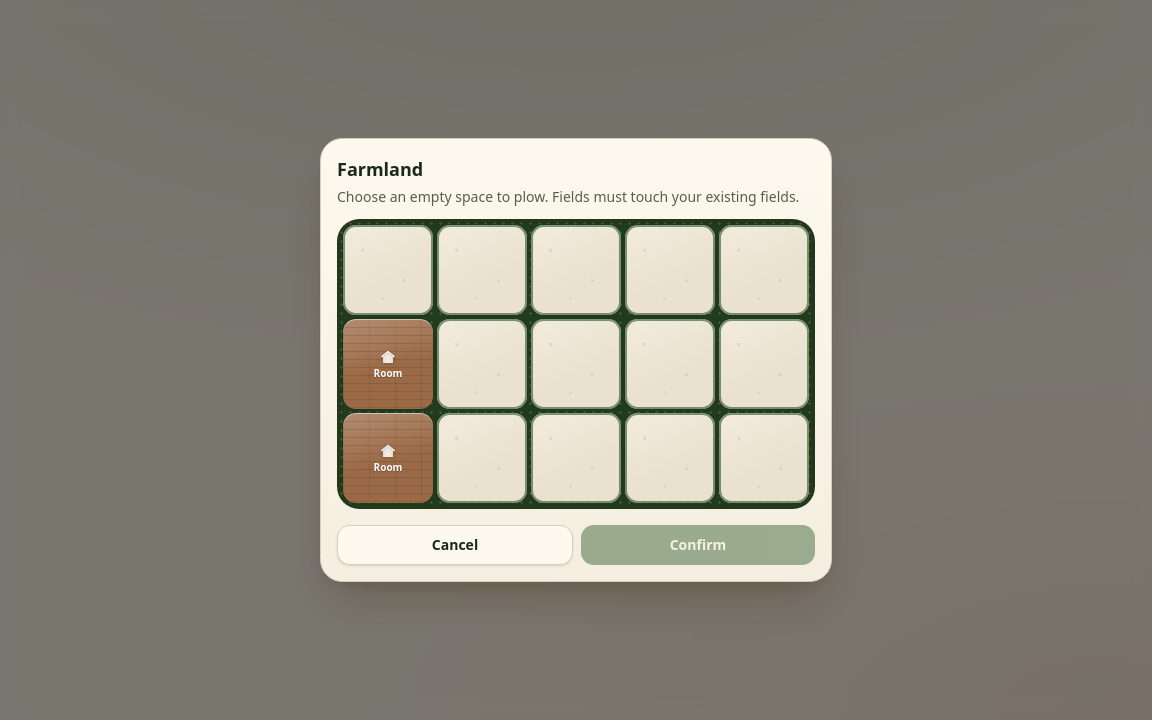
it: plowing › deselects a space when it is tapped again
The width and height of the screenshot is (1152, 720).
Step 1. Click the button named "Space 1:" → (388, 270), box [343,225,433,315]
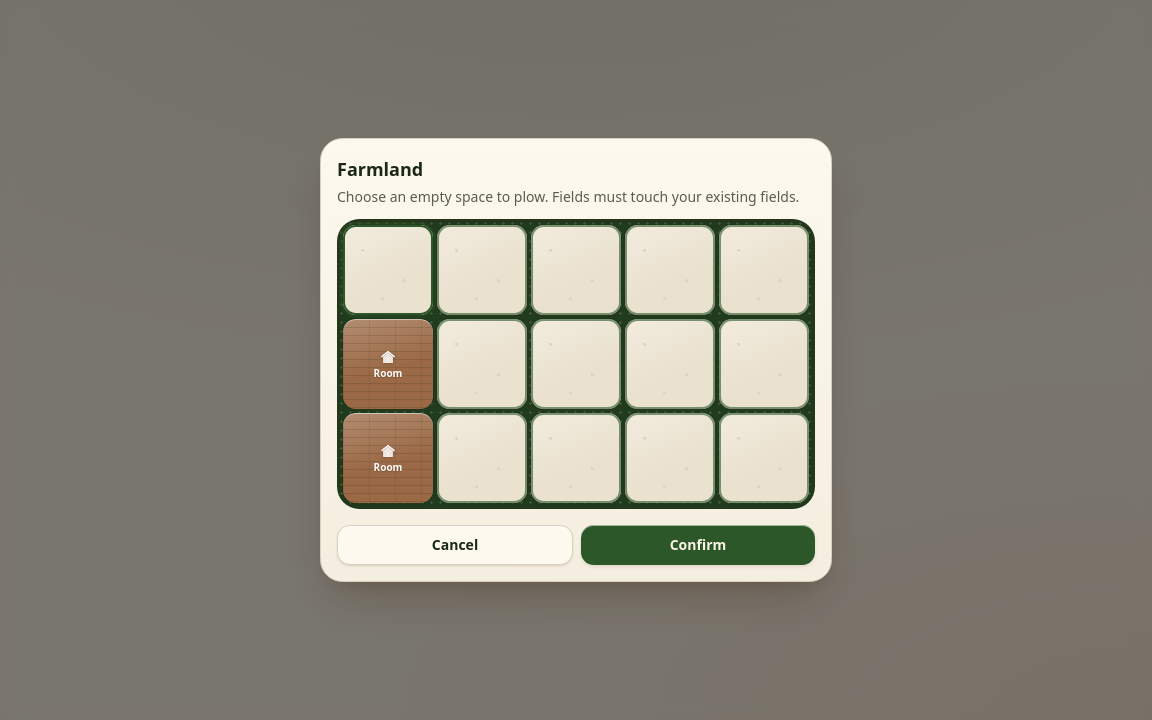
Check: the button "Confirm" is enabled, box [581,525,815,565]
Step 2. Click the button named "Space 1:" → (388, 270), box [343,225,433,315]
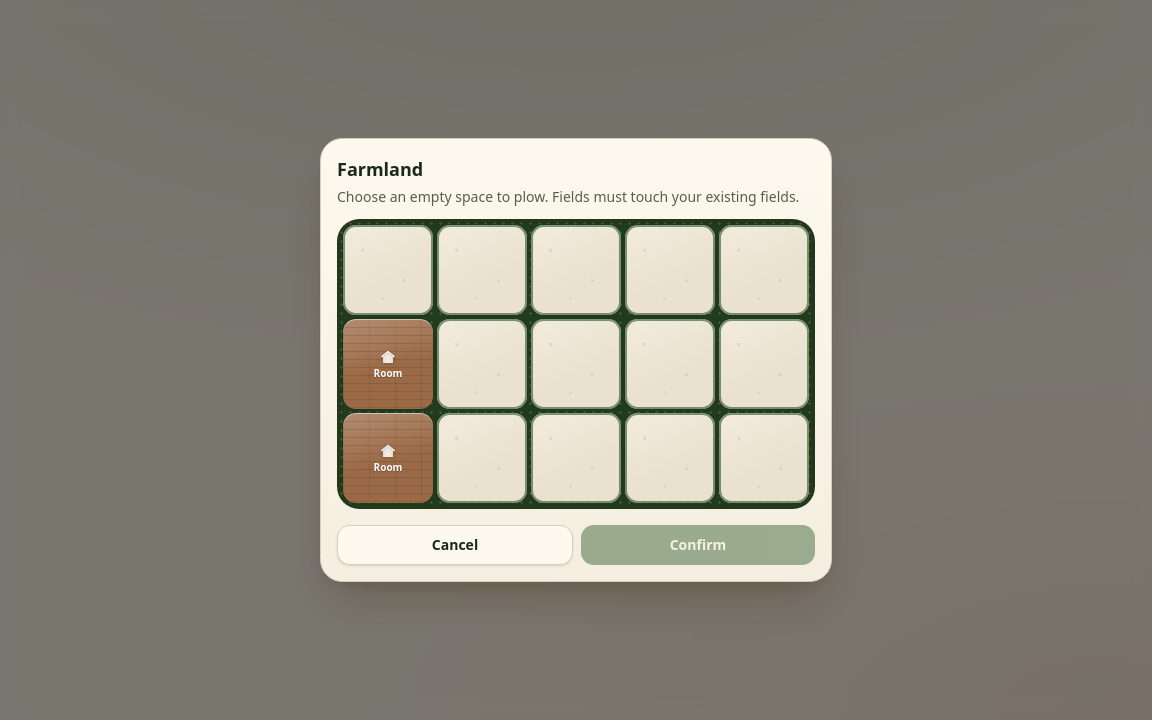
Check: the button "Confirm" is disabled, box [581,525,815,565]
